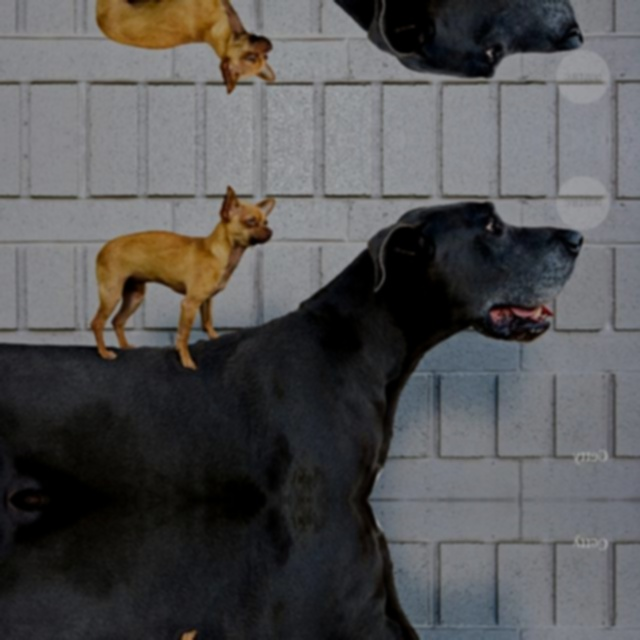dog: (352, 185, 608, 355), (352, 0, 608, 95), (206, 22, 296, 110), (206, 170, 296, 257)
